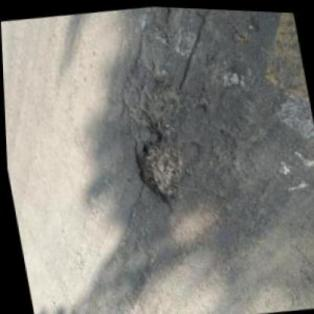Hueco: (128, 130, 191, 212), (138, 71, 184, 135)
